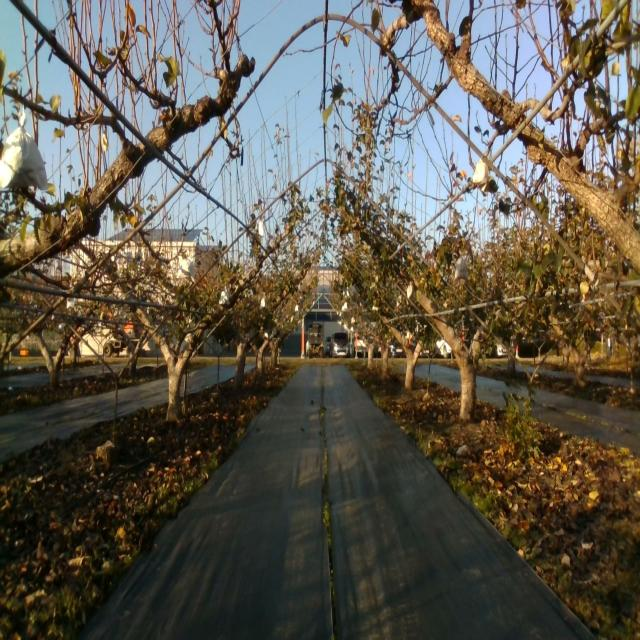pearbags: (0, 112, 50, 190), (472, 158, 488, 197), (177, 256, 194, 283), (454, 257, 469, 281), (219, 284, 230, 304)
